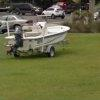Boat: (7, 19, 78, 55)
